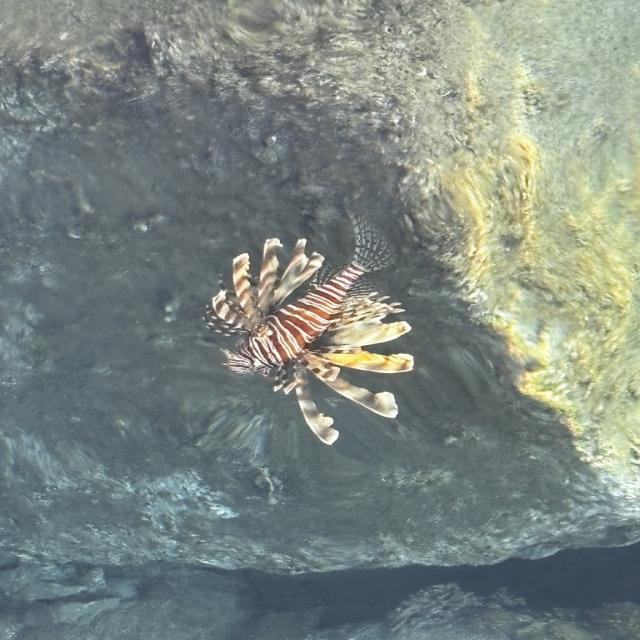Aslan Baligi: (201, 205, 416, 446)
